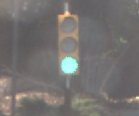Green: (56, 5, 78, 85)
